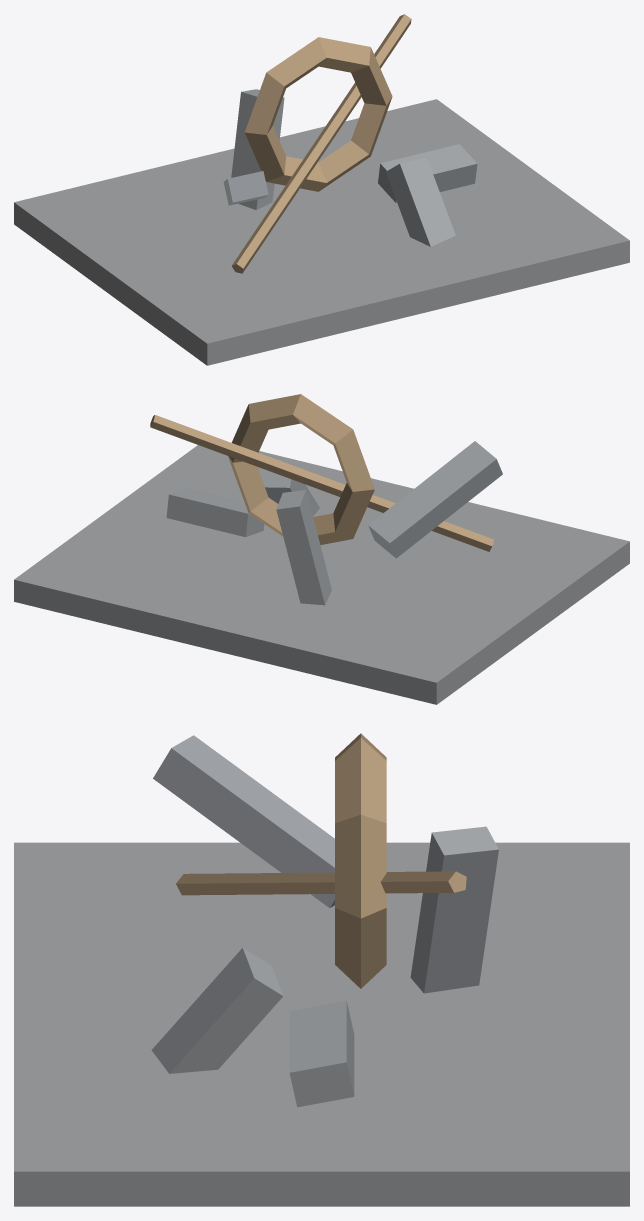
The model's file is harthmere_mudden_scrap.lod1.glb.
3 views of the same model, one above another, from view 1: azimuth 30°, elevation 25°; view 2: azimuth 150°, elevation 25°; view 3: azimuth 270°, elevation 25° (orthographic). The views are drawn at different scales.
Bounding box in the file's own units: 2.4 × 1.06 × 1.9.
